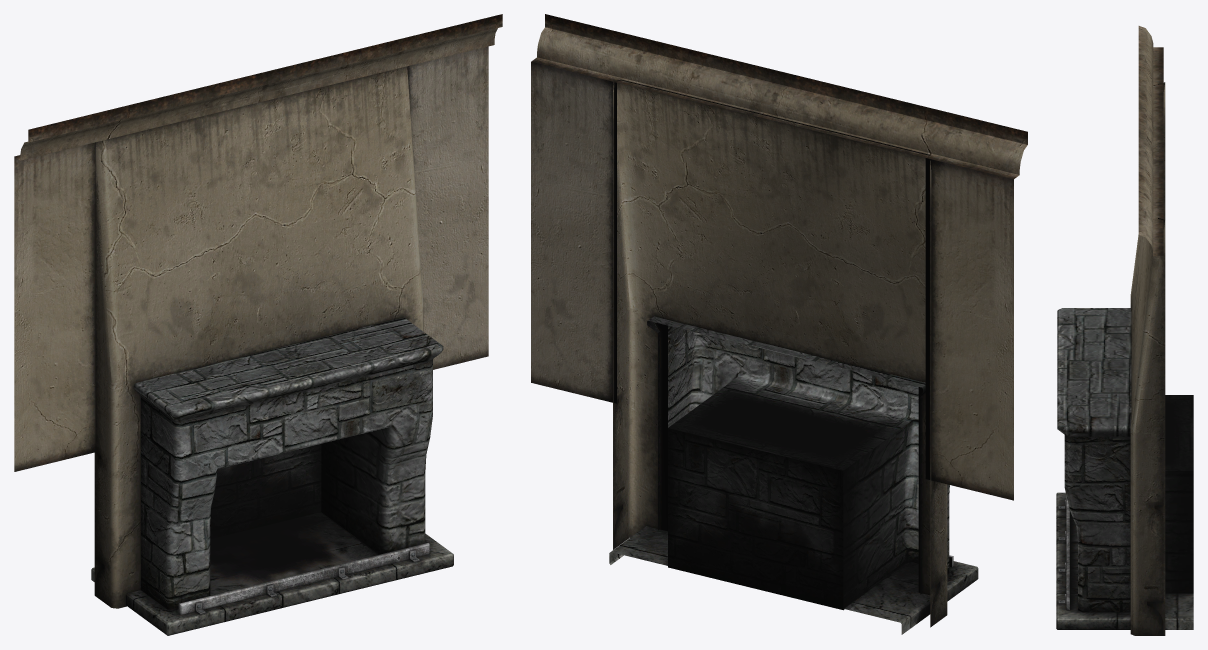
The model's file is wall_stove_wood_panneling.DAE.
3 views of the same model, side by side, from view 1: azimuth 30°, elevation 25°; view 2: azimuth 150°, elevation 25°; view 3: azimuth 270°, elevation 25° (orthographic). The views are drawn at different scales.
Parts seen in each view (by area): view 1: mansionbase_wall_stove001; view 2: mansionbase_wall_stove001; view 3: mansionbase_wall_stove001.
Part boxes in pixels (left/top/right/bottom): mansionbase_wall_stove001: left=14, top=14, right=502, bottom=635; mansionbase_wall_stove001: left=531, top=14, right=1027, bottom=634; mansionbase_wall_stove001: left=1056, top=26, right=1193, bottom=635.
Size of the model in its own units: 4 by 4 by 1.11.
